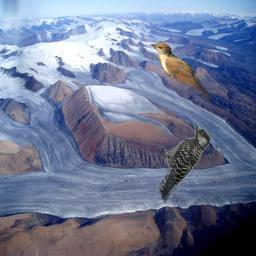Cuckoo: (150, 42, 210, 101)
Woodpecker: (158, 119, 211, 203)
